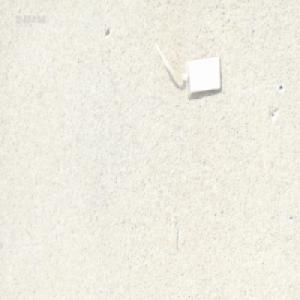LuggageTag: (152, 41, 224, 97)
